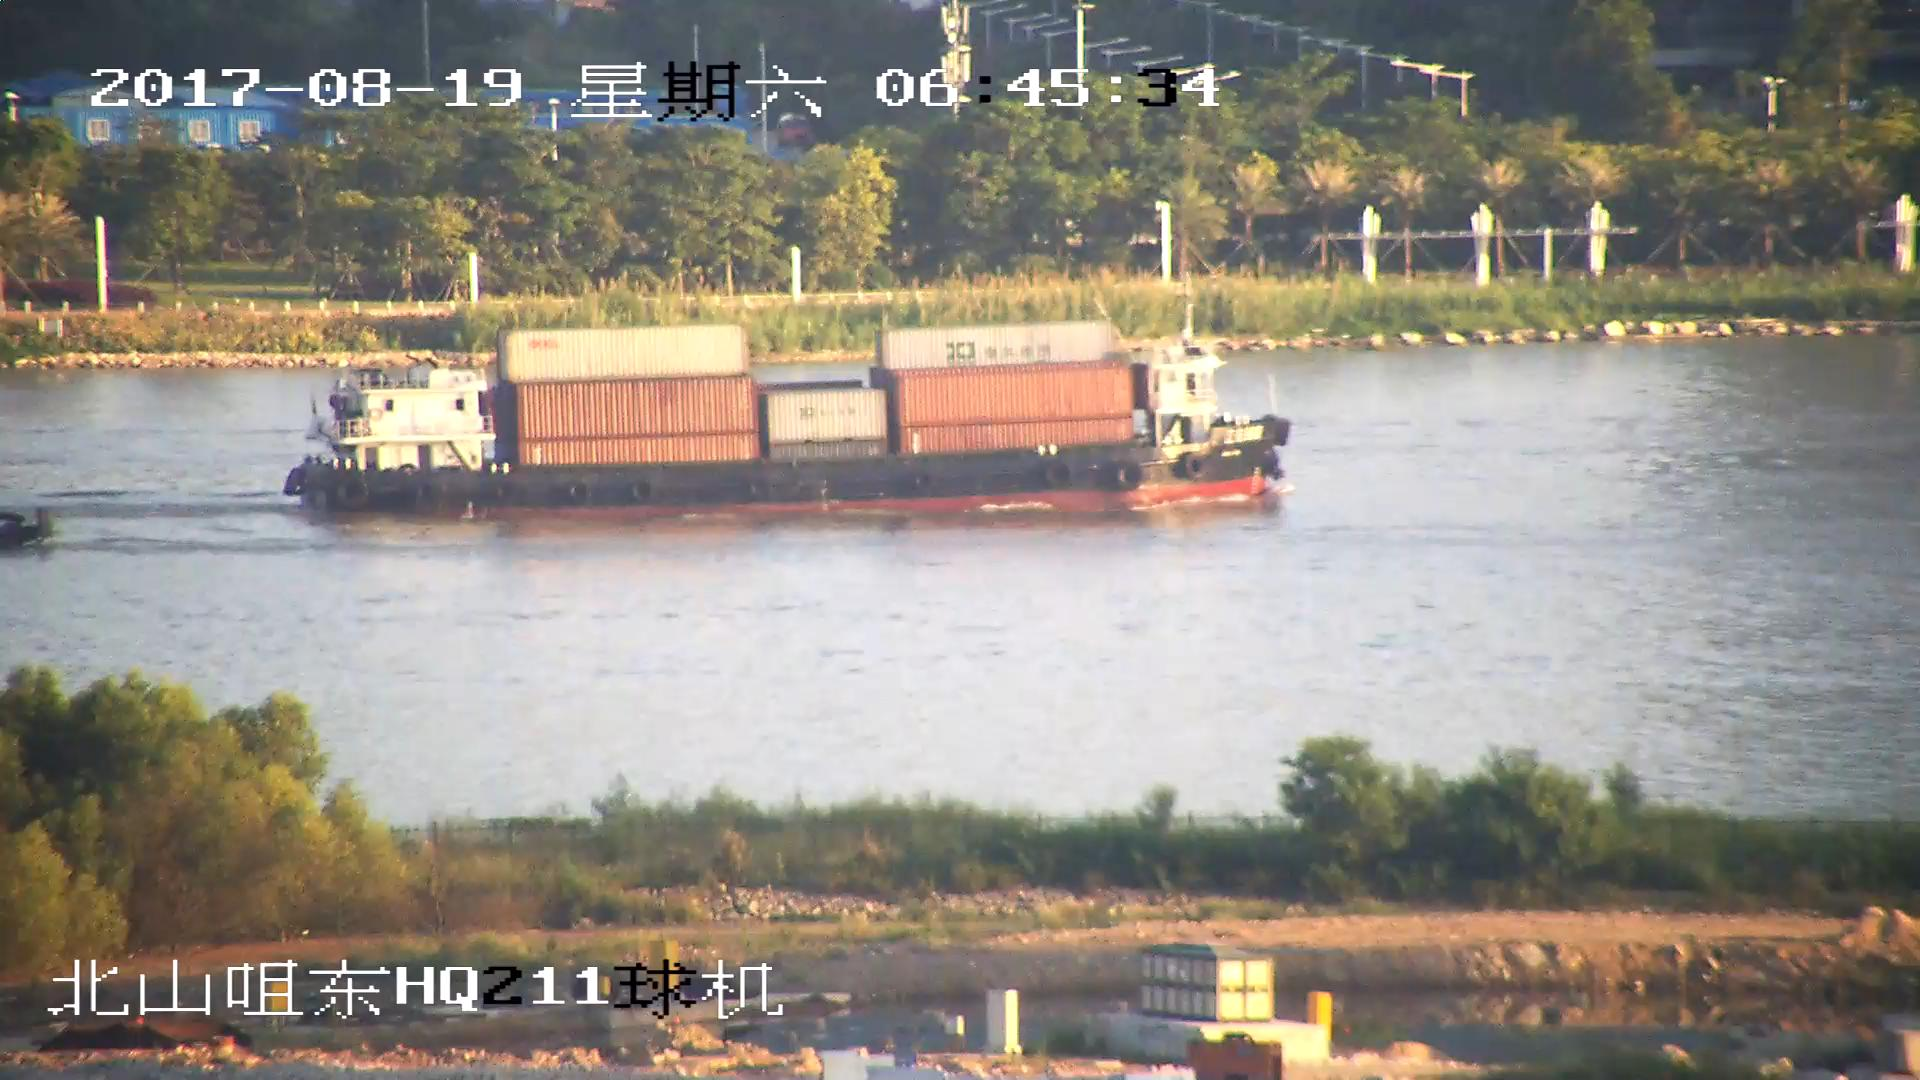container ship: (288, 303, 1291, 524)
